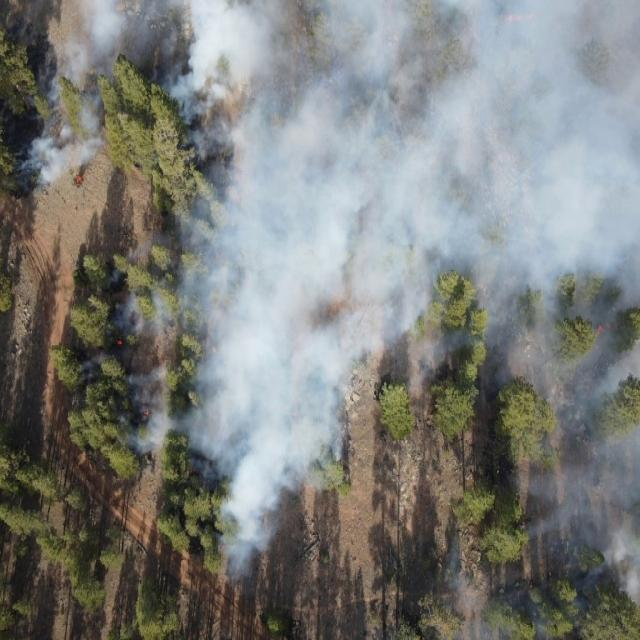fire: (498, 9, 541, 23), (74, 173, 85, 186), (596, 324, 608, 335), (114, 338, 123, 348), (526, 581, 534, 590), (142, 409, 152, 416)
smoke: (160, 98, 640, 378), (9, 0, 640, 98), (504, 377, 640, 640), (124, 380, 350, 482), (80, 235, 160, 381), (9, 99, 109, 190), (214, 484, 302, 587), (434, 520, 503, 640)
